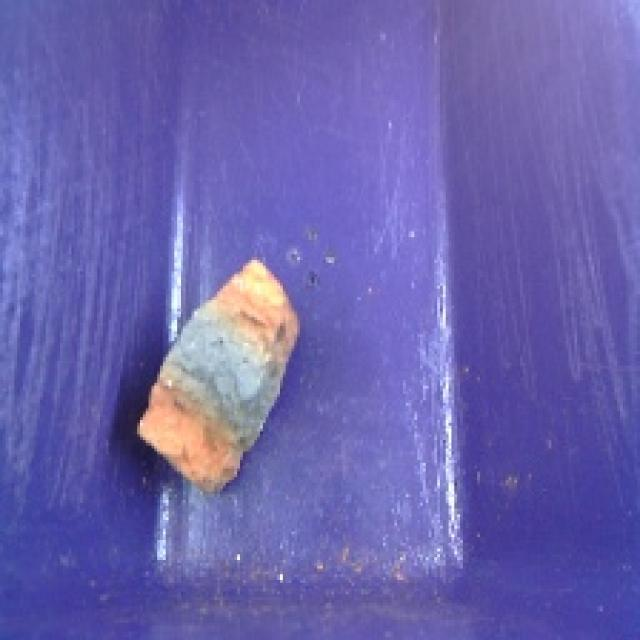brick: (102, 242, 316, 504)
